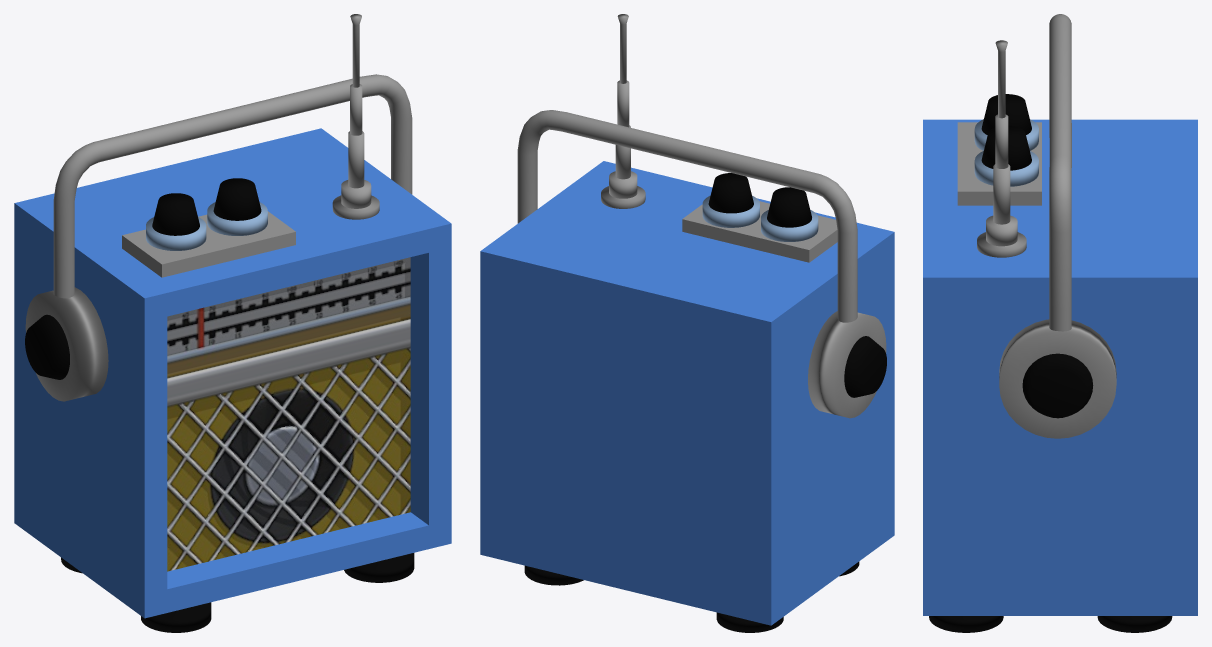
Rendered from radio.fbx.
The picture shows the model from 3 angles, left to right: view 1: azimuth 30°, elevation 25°; view 2: azimuth 150°, elevation 25°; view 3: azimuth 270°, elevation 25°; orthographic projection. The views are drawn at different scales.
Parts seen in each view (by area): view 1: Cube, Cylinder.016, Cylinder.014, Cube.001, Cylinder.017, Cylinder.010, Cylinder.012, Cylinder, Cylinder.001, Cylinder.011, Cylinder.009, Cylinder.006 (+4 smaller); view 2: Cube, Cylinder.016, Cylinder.014, Cube.001, Cylinder.017, Cylinder.012, Cylinder.010, Cylinder.009, Cylinder.011, Cylinder.002, Cylinder.003, Cylinder.005 (+2 smaller); view 3: Cube, Cylinder.013, Cylinder.016, Cylinder.015, Cube.001, Cylinder.010, Cylinder.012, Cylinder.003, Cylinder.001, Cylinder.006, Cylinder.009, Cylinder.005 (+4 smaller).
Boxes of the visible parts, x1=… form: Cube: x1=14, y1=128, x2=451, y2=618; Cylinder.016: x1=53, y1=74, x2=412, y2=298; Cylinder.014: x1=25, y1=287, x2=108, y2=401; Cube.001: x1=122, y1=211, x2=295, y2=277; Cylinder.017: x1=25, y1=314, x2=69, y2=379; Cylinder.010: x1=213, y1=178, x2=261, y2=220; Cylinder.012: x1=152, y1=193, x2=199, y2=235; Cylinder: x1=141, y1=602, x2=211, y2=632; Cylinder.001: x1=344, y1=553, x2=414, y2=582; Cylinder.011: x1=146, y1=217, x2=206, y2=250; Cylinder.009: x1=207, y1=202, x2=267, y2=235; Cylinder.006: x1=348, y1=131, x2=364, y2=188; Cube: x1=480, y1=161, x2=894, y2=625; Cylinder.016: x1=517, y1=110, x2=857, y2=322; Cylinder.014: x1=808, y1=311, x2=886, y2=418; Cube.001: x1=682, y1=201, x2=837, y2=262; Cylinder.017: x1=844, y1=336, x2=886, y2=397; Cylinder.012: x1=767, y1=187, x2=811, y2=227; Cylinder.010: x1=708, y1=173, x2=753, y2=213; Cylinder.009: x1=702, y1=195, x2=759, y2=227; Cylinder.011: x1=761, y1=210, x2=818, y2=241; Cylinder.002: x1=716, y1=612, x2=783, y2=632; Cylinder.003: x1=524, y1=565, x2=583, y2=585; Cylinder.005: x1=609, y1=171, x2=637, y2=198; Cube: x1=923, y1=119, x2=1197, y2=615; Cylinder.013: x1=999, y1=319, x2=1116, y2=438; Cylinder.016: x1=1049, y1=14, x2=1071, y2=331; Cylinder.015: x1=1022, y1=353, x2=1093, y2=418; Cube.001: x1=957, y1=122, x2=1041, y2=205; Cylinder.010: x1=981, y1=125, x2=1031, y2=170; Cylinder.012: x1=981, y1=94, x2=1031, y2=134; Cylinder.003: x1=1097, y1=616, x2=1172, y2=632; Cylinder.001: x1=929, y1=616, x2=1003, y2=632; Cylinder.006: x1=993, y1=164, x2=1010, y2=224; Cylinder.009: x1=974, y1=151, x2=1038, y2=186; Cylinder.005: x1=986, y1=215, x2=1017, y2=246.
Size of the model in its own units: 148 by 196 by 85.28.
Materials: 5 (1 with a texture image).
